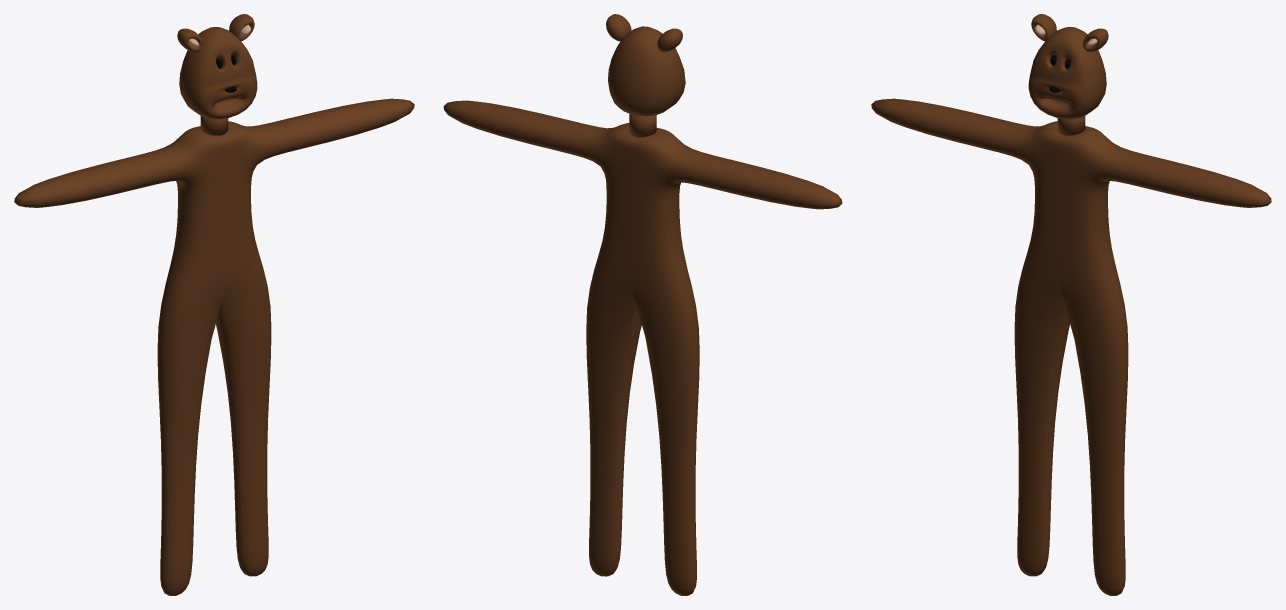
The model's file is oso test.fbx.
The picture shows the model from 3 angles, left to right: view 1: azimuth 30°, elevation 25°; view 2: azimuth 150°, elevation 25°; view 3: azimuth 330°, elevation 25°; orthographic projection.
Parts seen in each view (by area): view 1: Cube.002, Cube.001, Cube; view 2: Cube.002, Cube.001, Cube, Cylinder; view 3: Cube.002, Cube.001, Cube.
Part boxes in pixels (x1,y1,x2,y2): Cube.002: [14, 98, 414, 595]; Cube.001: [179, 27, 257, 119]; Cube: [177, 14, 254, 52]; Cube.002: [443, 100, 842, 595]; Cube.001: [608, 26, 685, 116]; Cube: [606, 14, 682, 52]; Cylinder: [629, 114, 656, 137]; Cube.002: [871, 98, 1271, 595]; Cube.001: [1028, 27, 1106, 119]; Cube: [1031, 14, 1108, 52].
Size of the model in its own units: 4.56 by 6.13 by 0.6615.
